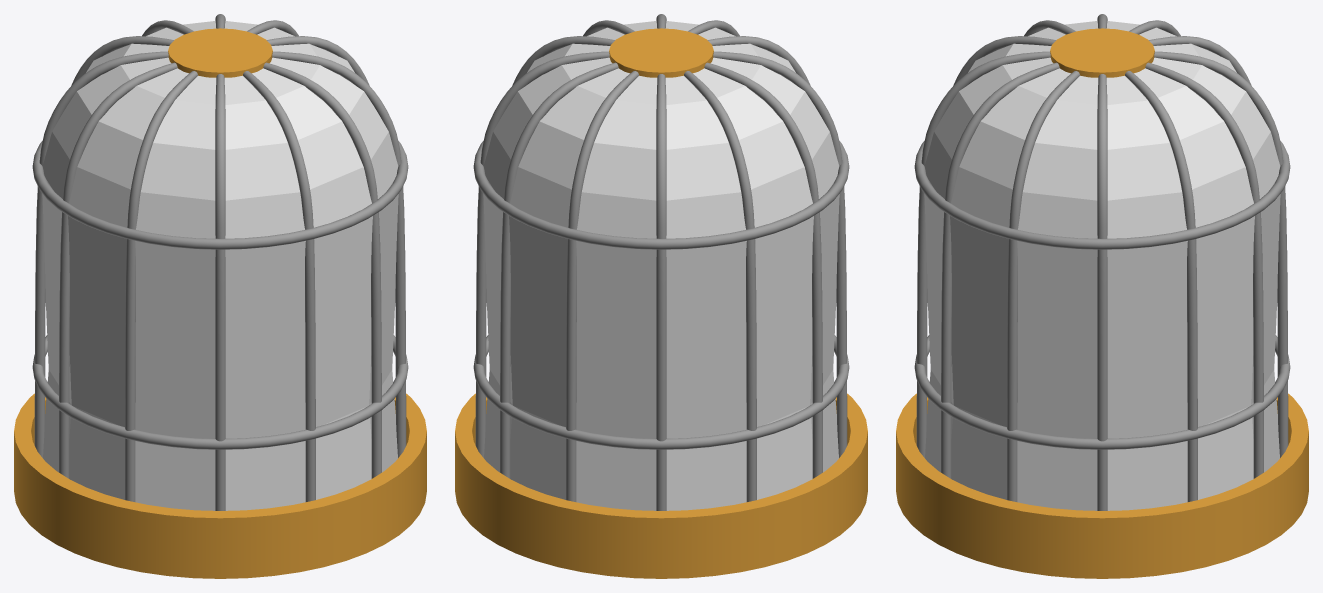
The model's file is Cage.fbx.
3 views of the same model, side by side, from view 1: azimuth 30°, elevation 25°; view 2: azimuth 150°, elevation 25°; view 3: azimuth 270°, elevation 25° (orthographic).
Visible parts, largest first — view 1: MagicWall, Cylinder.026; view 2: MagicWall, Cylinder.026; view 3: MagicWall, Cylinder.026.
Boxes of the visible parts, x1=… form: MagicWall: x1=42, y1=21, x2=398, y2=510; Cylinder.026: x1=14, y1=14, x2=426, y2=578; MagicWall: x1=483, y1=21, x2=839, y2=510; Cylinder.026: x1=455, y1=14, x2=867, y2=578; MagicWall: x1=924, y1=21, x2=1280, y2=510; Cylinder.026: x1=896, y1=14, x2=1308, y2=578.
Bounding box in the file's own units: 2.29 × 2.7 × 2.29.
